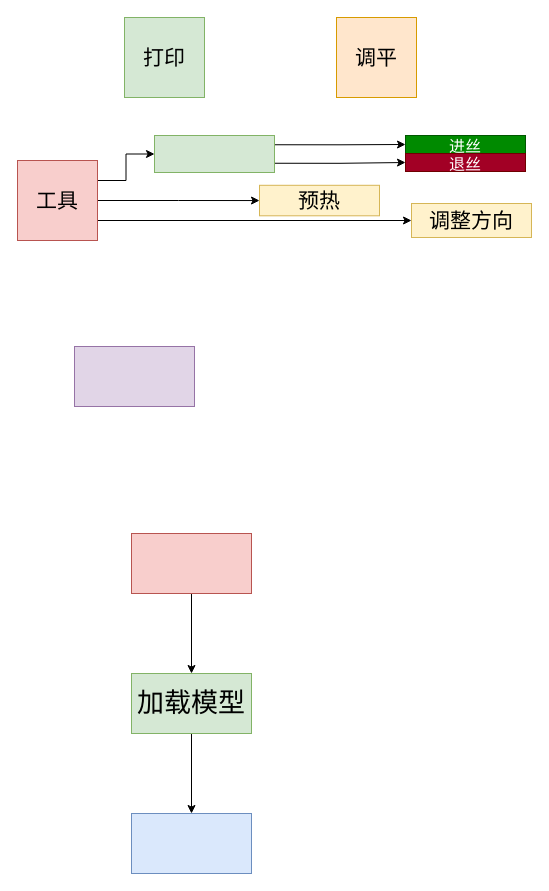
Image size: 549x891. Some labels were removed from this diagram. The shapes that lost their labels are listed below. From the top down, each one's centre as x and y in pixels, then its label:
the point at 214,153: 换丝
the point at 134,376: 注意你的底座
the point at 191,563: 设计模型
the point at 191,843: 打印模型
